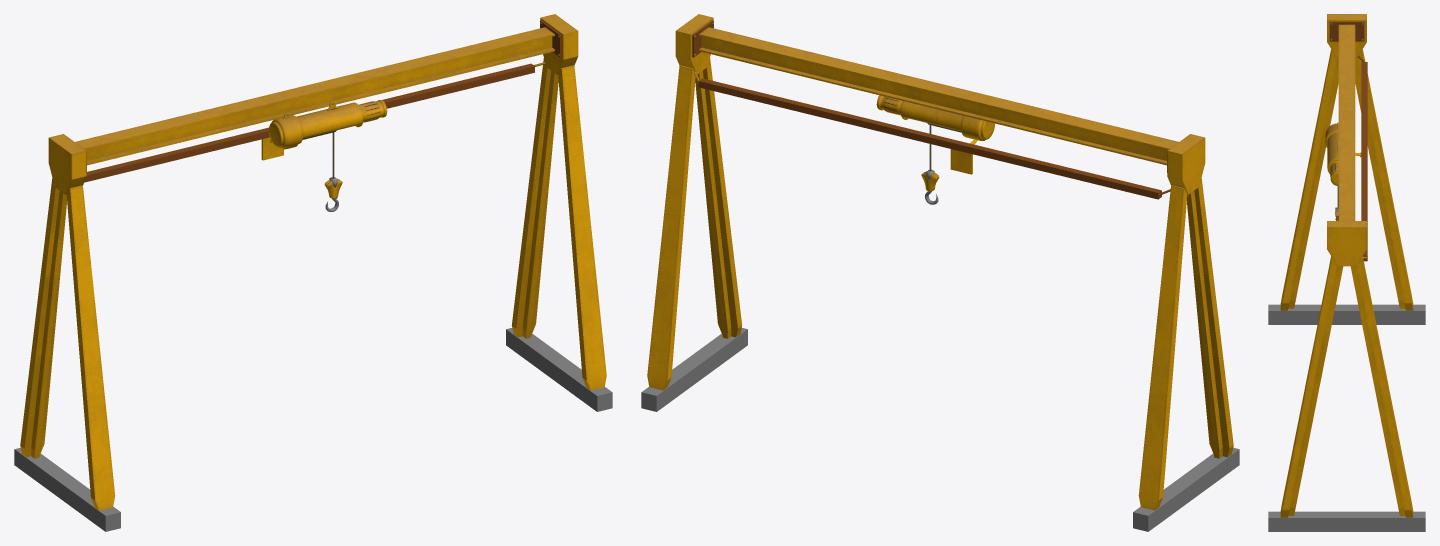
The model's file is gantry_crane_long.obj.
3 views of the same model, side by side, from view 1: azimuth 30°, elevation 25°; view 2: azimuth 150°, elevation 25°; view 3: azimuth 270°, elevation 25° (orthographic). The views are drawn at different scales.
Parts seen in each view (by area): view 1: GantryCraneLongStatic, GantryCraneLongMovable; view 2: GantryCraneLongStatic, GantryCraneLongMovable; view 3: GantryCraneLongStatic, GantryCraneLongMovable.
Boxes of the visible parts, x1=… form: GantryCraneLongStatic: x1=14, y1=14, x2=612, y2=531; GantryCraneLongMovable: x1=261, y1=100, x2=387, y2=211; GantryCraneLongStatic: x1=641, y1=14, x2=1239, y2=531; GantryCraneLongMovable: x1=876, y1=95, x2=994, y2=204; GantryCraneLongStatic: x1=1268, y1=14, x2=1425, y2=531; GantryCraneLongMovable: x1=1325, y1=122, x2=1361, y2=220.
Size of the model in its own units: 13.45 by 8.86 by 4.15.
Materials: 1 (1 with a texture image).
